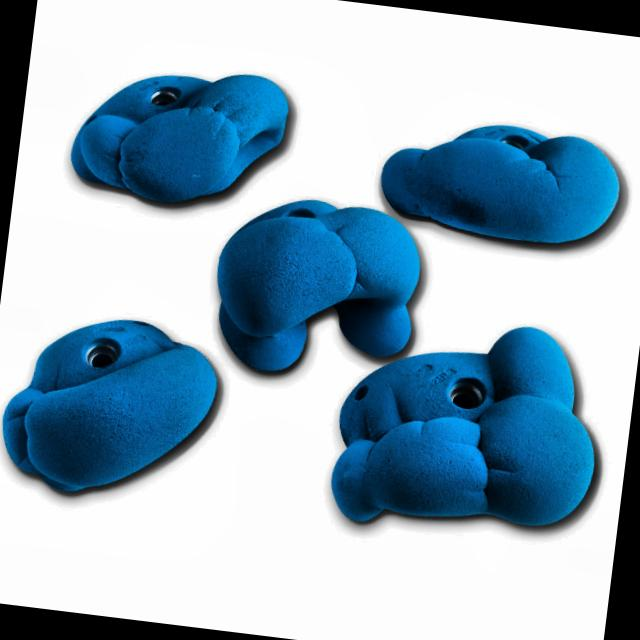Hold: (326, 300, 598, 557), (207, 191, 425, 396), (0, 319, 222, 514), (64, 52, 301, 222), (382, 101, 632, 258)
